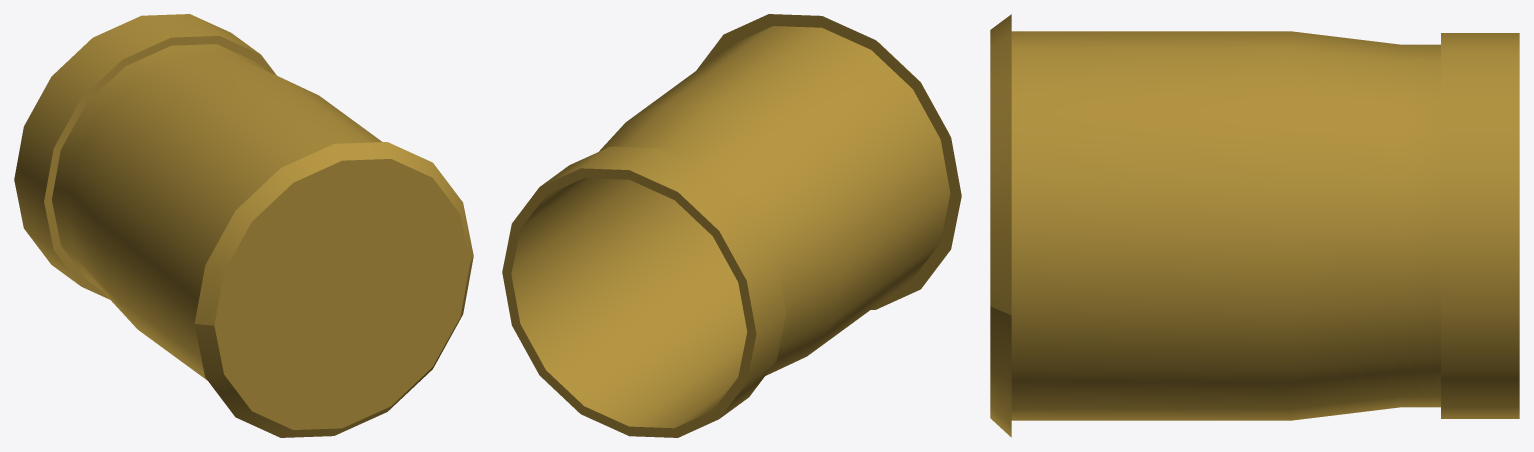
File: 37_empty.fbx
3 renders of one model, left to right at view 1: azimuth 30°, elevation 25°; view 2: azimuth 150°, elevation 25°; view 3: azimuth 270°, elevation 25°, orthographic. The views are drawn at different scales.
Visible parts, largest first — view 1: Cylinder; view 2: Cylinder; view 3: Cylinder.
Part boxes in pixels (<box>): Cylinder: <box>14,14,473,437</box>; Cylinder: <box>502,14,961,437</box>; Cylinder: <box>990,14,1519,437</box>.
Size of the model in its own units: 0.9676 by 0.9676 by 1.21.
